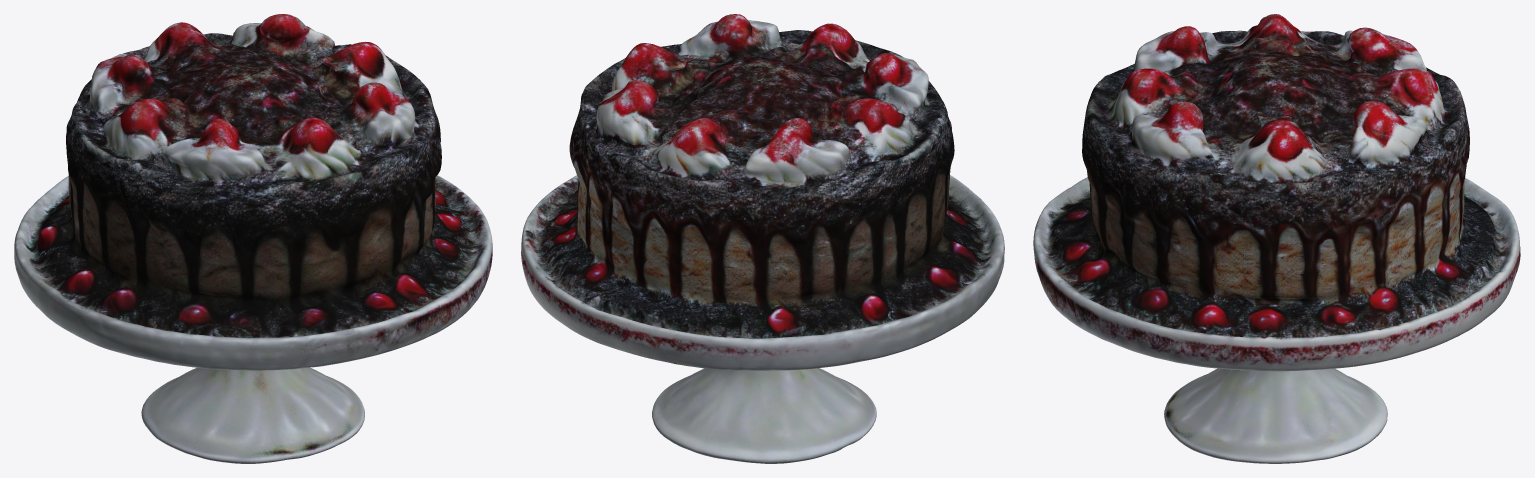
Rendered from black_forest_cake.glb.
3 renders of one model, left to right at view 1: azimuth 30°, elevation 25°; view 2: azimuth 150°, elevation 25°; view 3: azimuth 270°, elevation 25°, orthographic.
Visible parts, largest first — view 1: high_poly; view 2: high_poly; view 3: high_poly.
Boxes of the visible parts, x1,y1,x2,y2 form: high_poly: [14, 14, 492, 463]; high_poly: [521, 14, 1004, 463]; high_poly: [1033, 14, 1520, 463].
Size of the model in its own units: 0.9975 by 0.8039 by 1.
1 material, 1 textured.
